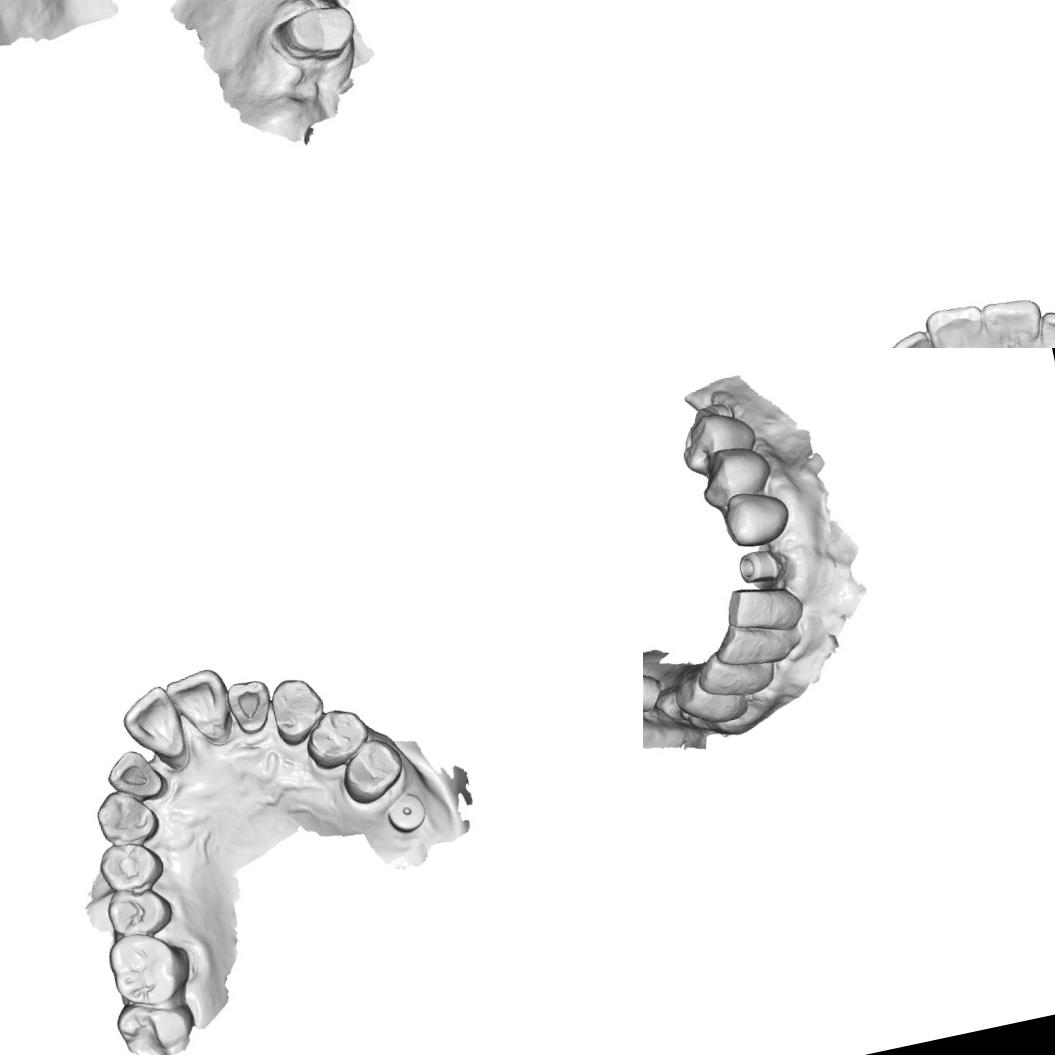canine: (265, 672, 331, 750), (92, 782, 162, 850)
crown: (279, 0, 360, 66)
implant: (728, 540, 793, 593), (383, 790, 429, 836), (692, 392, 740, 426), (643, 666, 669, 721)
incisor: (162, 664, 238, 754), (705, 608, 808, 673), (115, 681, 191, 769), (716, 570, 810, 640), (685, 641, 784, 704), (661, 672, 754, 732), (101, 742, 168, 808), (978, 292, 1055, 348), (921, 299, 1001, 348), (224, 674, 278, 738), (881, 326, 956, 348)
molar: (102, 922, 198, 1013), (670, 404, 762, 476), (111, 988, 202, 1055)
premolar: (693, 441, 780, 506), (334, 733, 409, 808), (710, 486, 795, 552), (299, 702, 375, 772), (102, 878, 178, 944), (95, 835, 168, 900)
